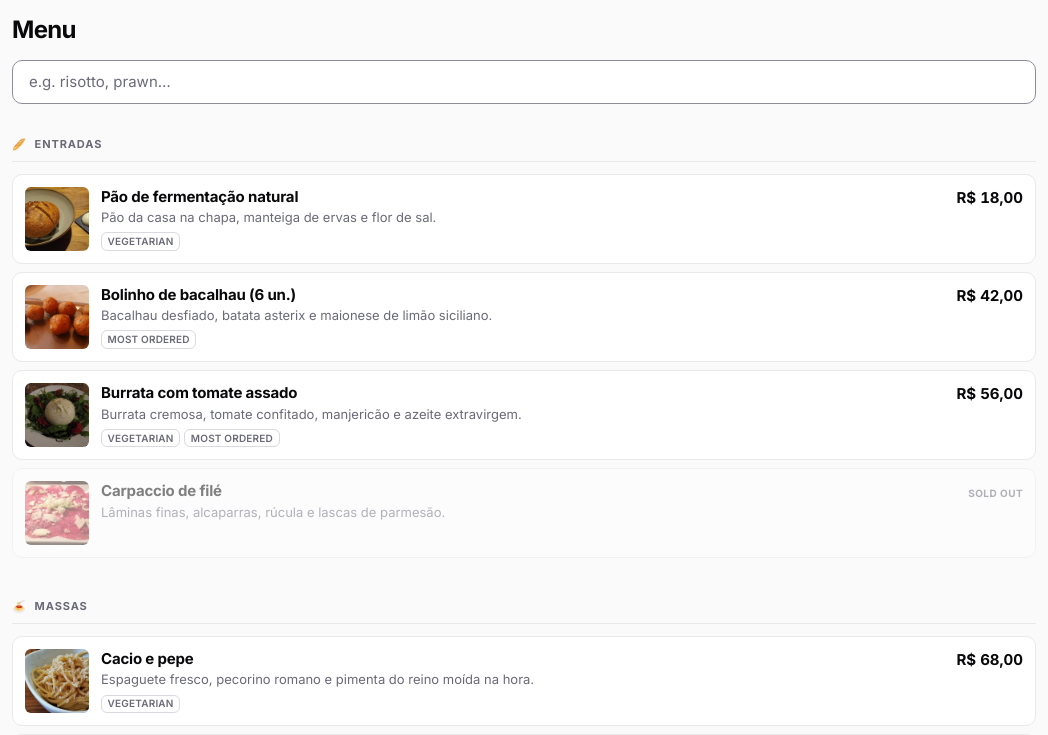
Scenario: MenuPage › explains when a search matches nothing
Type "sushi" into the search field named "Search the menu" at (524, 82), box [12,60,1036,104]
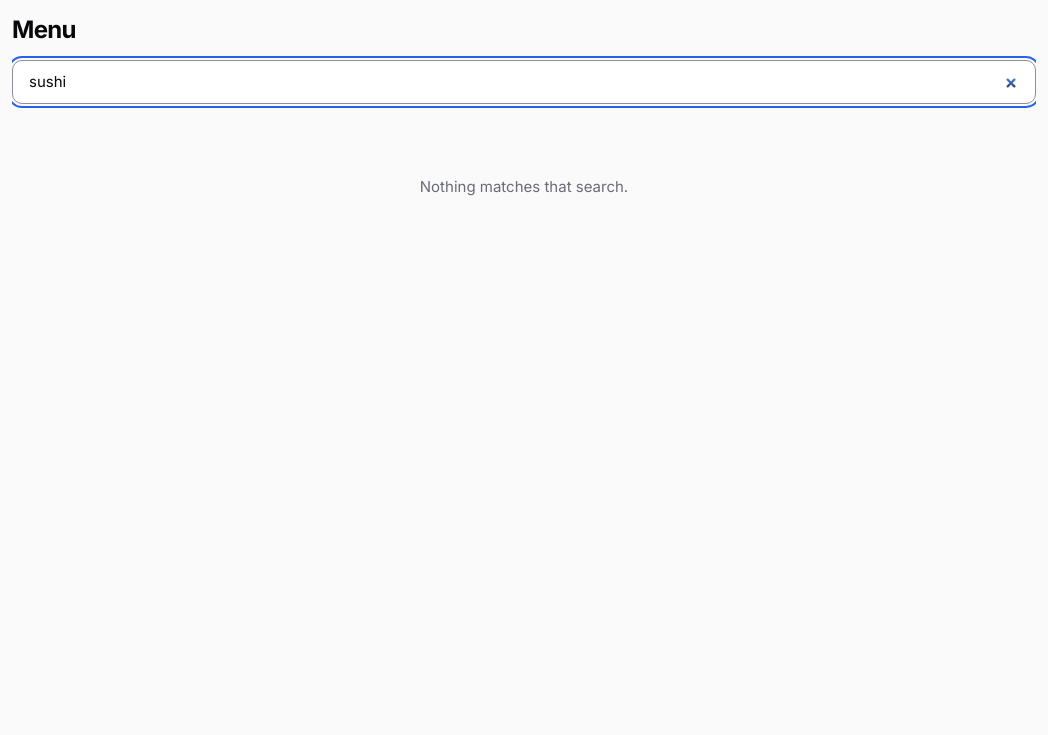
Result: the text "Nothing matches that search." is shown at [420,177,628,196]
